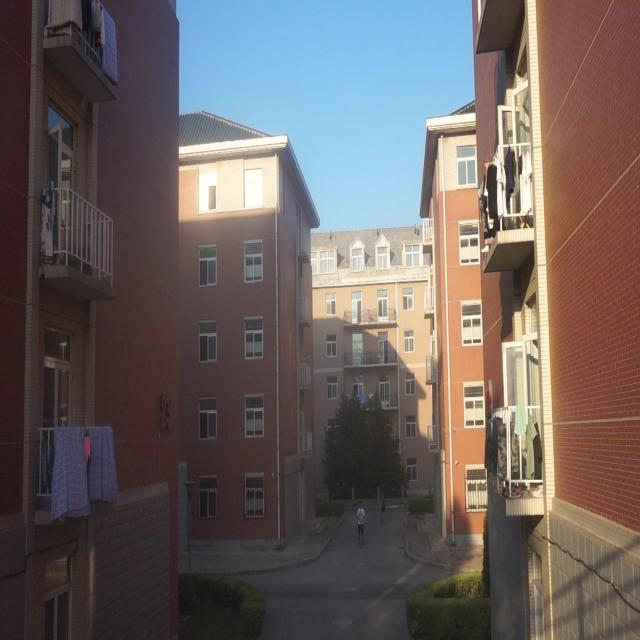UAV: (304, 354, 312, 364)
